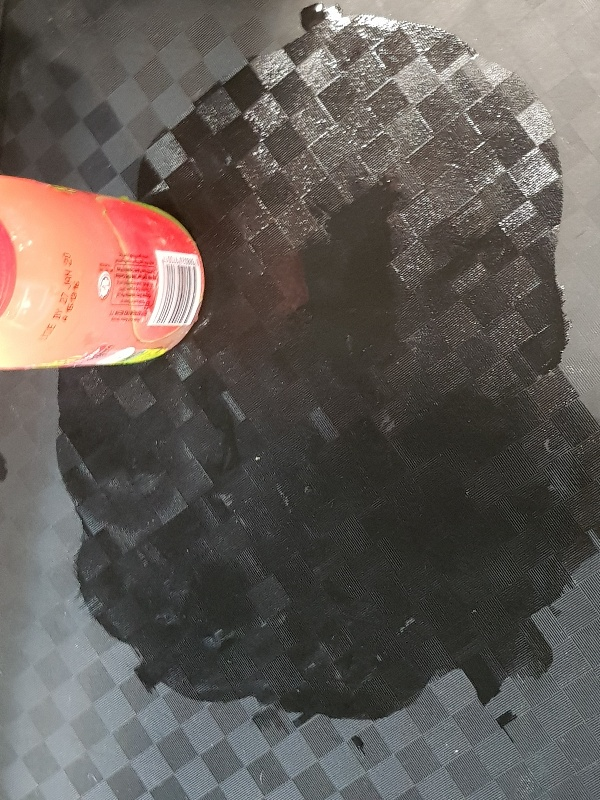Marigold Peel Fresh Pink Guava Juice Drink: (1, 170, 205, 372)
